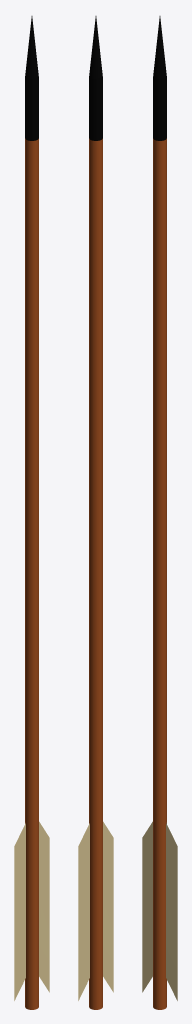
File: arrow.fbx
3 renders of one model, left to right at view 1: azimuth 30°, elevation 25°; view 2: azimuth 210°, elevation 25°; view 3: azimuth 330°, elevation 25°, orthographic.
Parts seen in each view (by area): view 1: Cylinder; view 2: Cylinder; view 3: Cylinder.
Boxes of the visible parts, <box> form: Cylinder: <box>14,16,49,1009</box>; Cylinder: <box>78,16,113,1009</box>; Cylinder: <box>142,16,177,1009</box>.
Bounding box in the file's own units: 41.91 × 1118 × 13.97.
